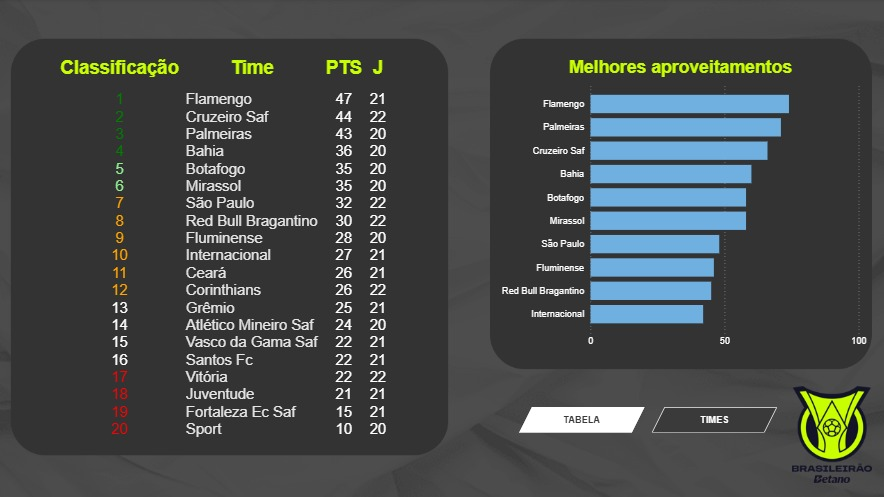

This screenshot's page, from the dashboard's own definition file:
{"tool":"powerbi","page":{"name":"TABELA","canvas":[1280,720],"ordinal":0},"visuals":[{"type":"tableEx","fields":{"Values":["tabela.Classificação","tabela.Time","select","select1","Sum(tabela.PTS)","Sum(tabela.J)"]},"box":[83.5,83.5,485.3,553],"z":1000},{"type":"clusteredBarChart","title":"Melhores aproveitamentos","fields":{"Category":["tabela.Time"],"Y":["Sum(tabela.%)"]},"box":[714.2,83.5,537.1,420.5],"z":3000},{"type":"pageNavigator","box":[750.2,587.5,373,37.4],"z":4000}]}

Visuals, with their boxes in screenshot pixels (x1, y1, x2, y2), scaled from the page's 1280x720 canvas onto the 884x497 screenshot:
tableEx - tabela.Classificação x tabela.Time: {"left": 58, "top": 58, "right": 393, "bottom": 439}
"Melhores aproveitamentos" clusteredBarChart: {"left": 493, "top": 58, "right": 864, "bottom": 348}
pageNavigator: {"left": 518, "top": 406, "right": 776, "bottom": 431}
